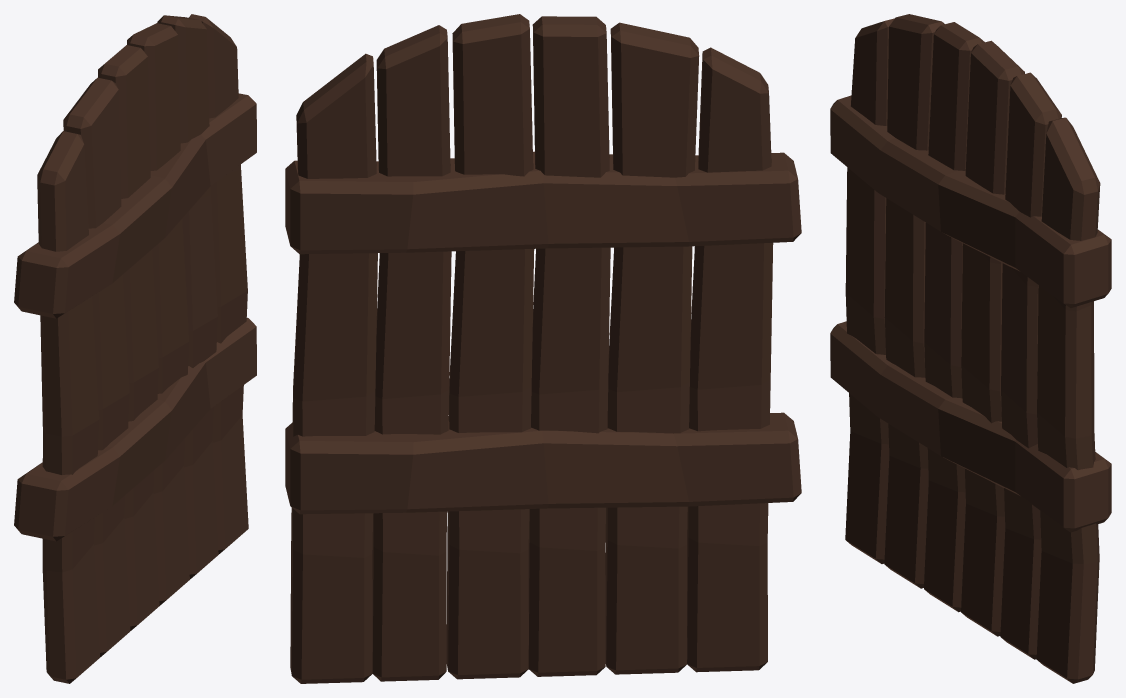
The model's file is door.fbx.
3 renders of one model, left to right at view 1: azimuth 30°, elevation 25°; view 2: azimuth 150°, elevation 25°; view 3: azimuth 270°, elevation 25°, orthographic. The views are drawn at different scales.
Parts seen in each view (by area): view 1: Cube.185; view 2: Cube.185; view 3: Cube.185.
Boxes of the visible parts, bbox=[...] form: Cube.185: bbox=[14, 14, 256, 683]; Cube.185: bbox=[285, 14, 801, 683]; Cube.185: bbox=[830, 14, 1111, 683].
Size of the model in its own units: 200 by 320 by 143.
